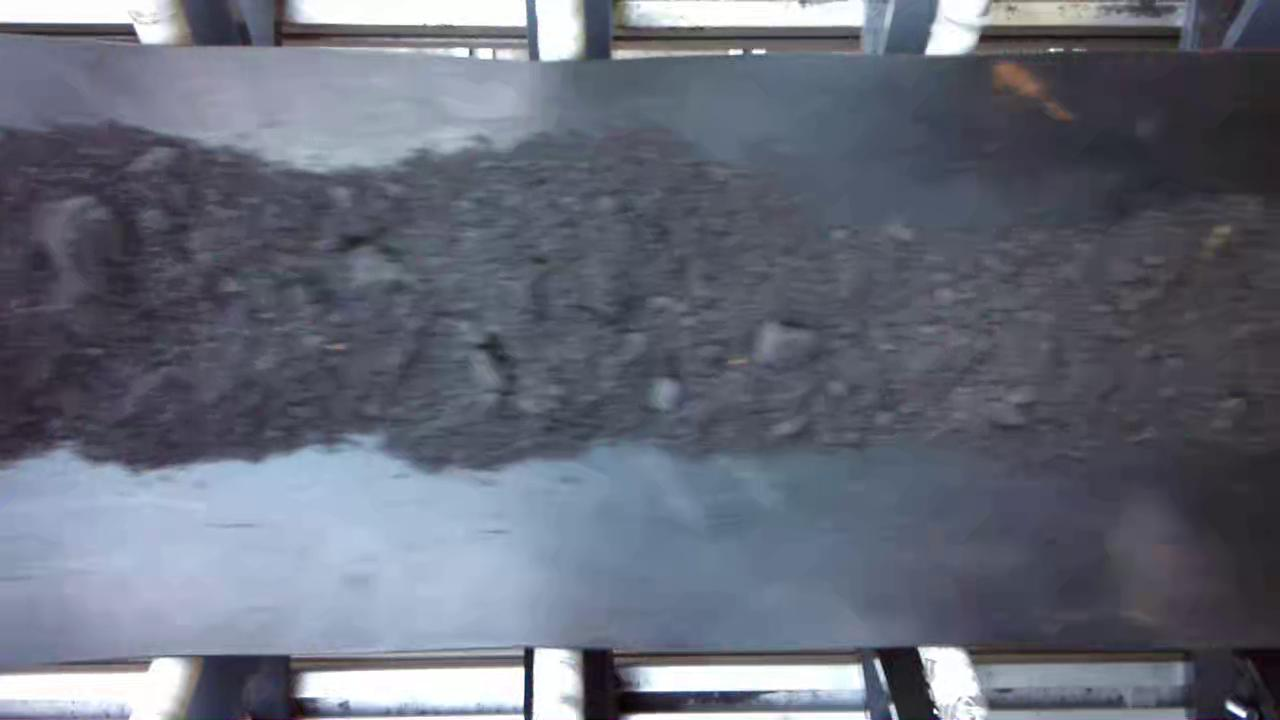conveyor: (3, 61, 1280, 643)
